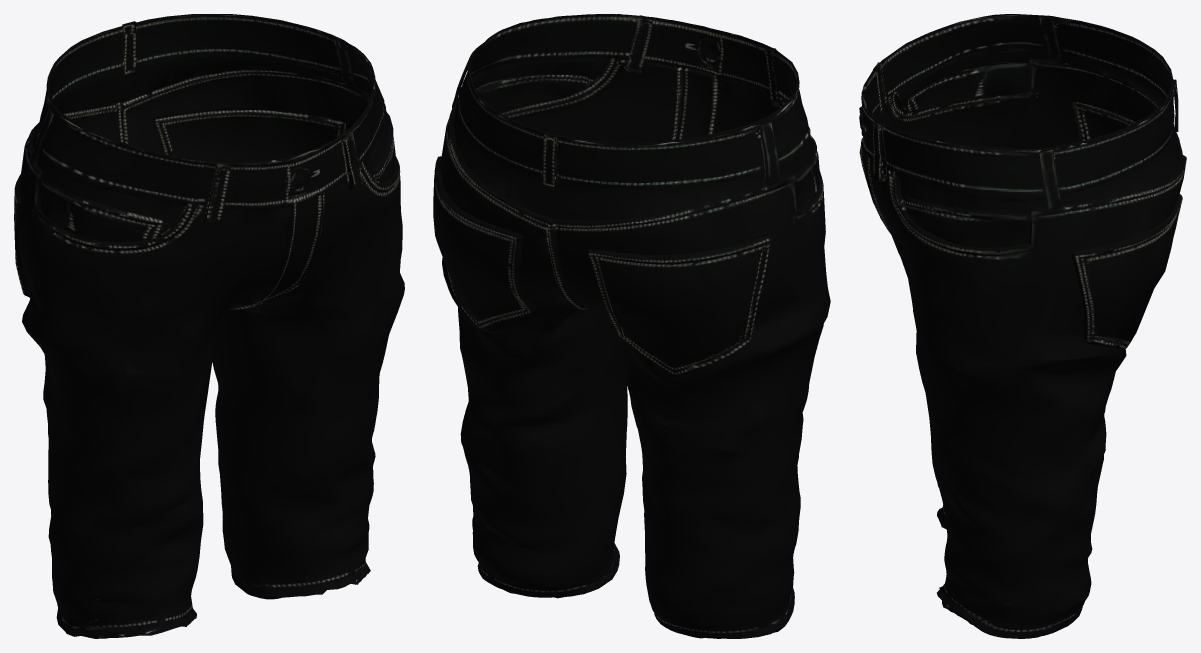
Rendered from BlackJeans.glb.
3 renders of one model, left to right at view 1: azimuth 30°, elevation 25°; view 2: azimuth 150°, elevation 25°; view 3: azimuth 270°, elevation 25°, orthographic. The views are drawn at different scales.
Parts seen in each view (by area): view 1: BlackJeans; view 2: BlackJeans; view 3: BlackJeans.
Part boxes in pixels (x1,y1,x2,y2): BlackJeans: (14,14,404,638); BlackJeans: (433,14,830,638); BlackJeans: (859,14,1186,638).
Bounding box in the file's own units: 0.6889 × 0.9636 × 0.5794.
Materials: 1 (1 with a texture image).
